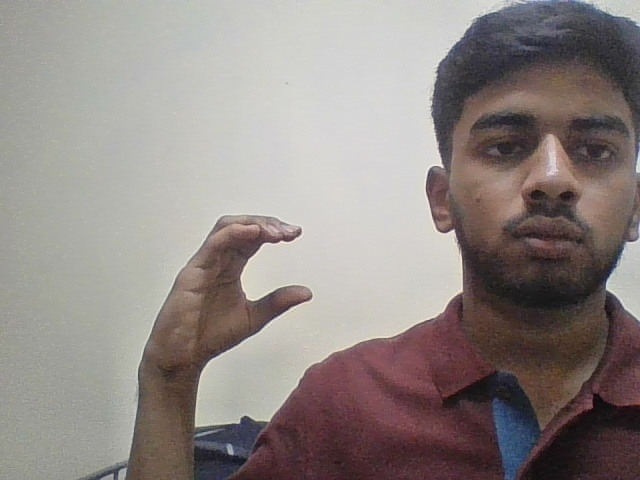C: (129, 192, 325, 359)
